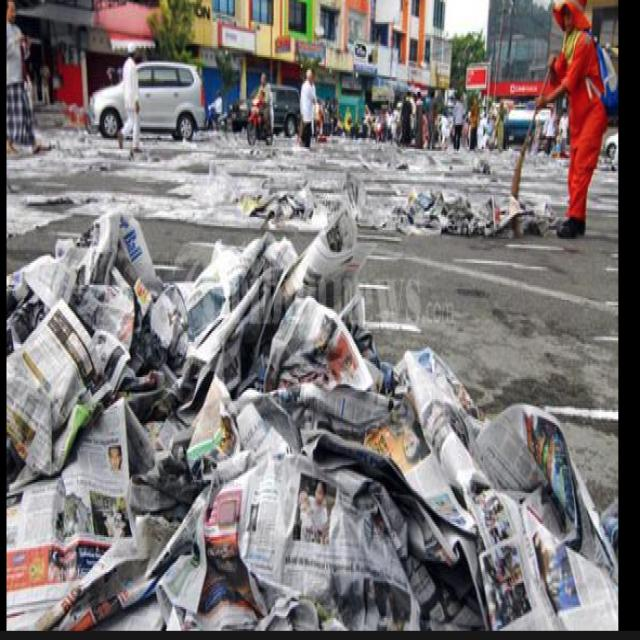Koran: (6, 191, 618, 631)
